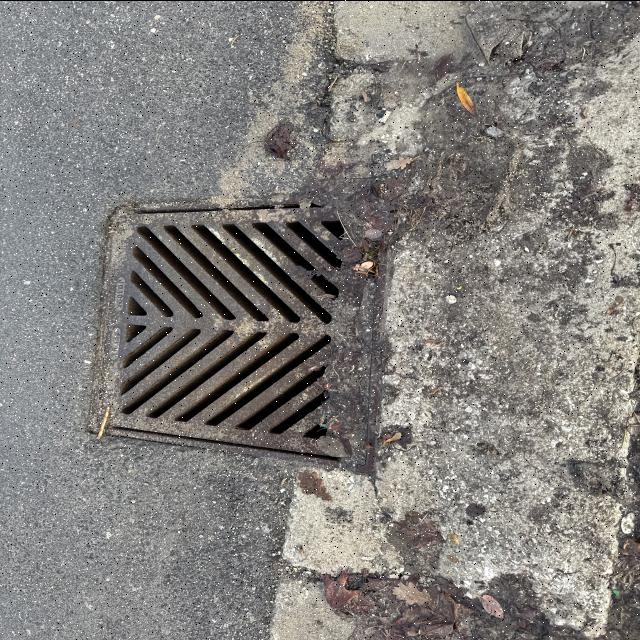Manhole: (90, 198, 382, 460)
